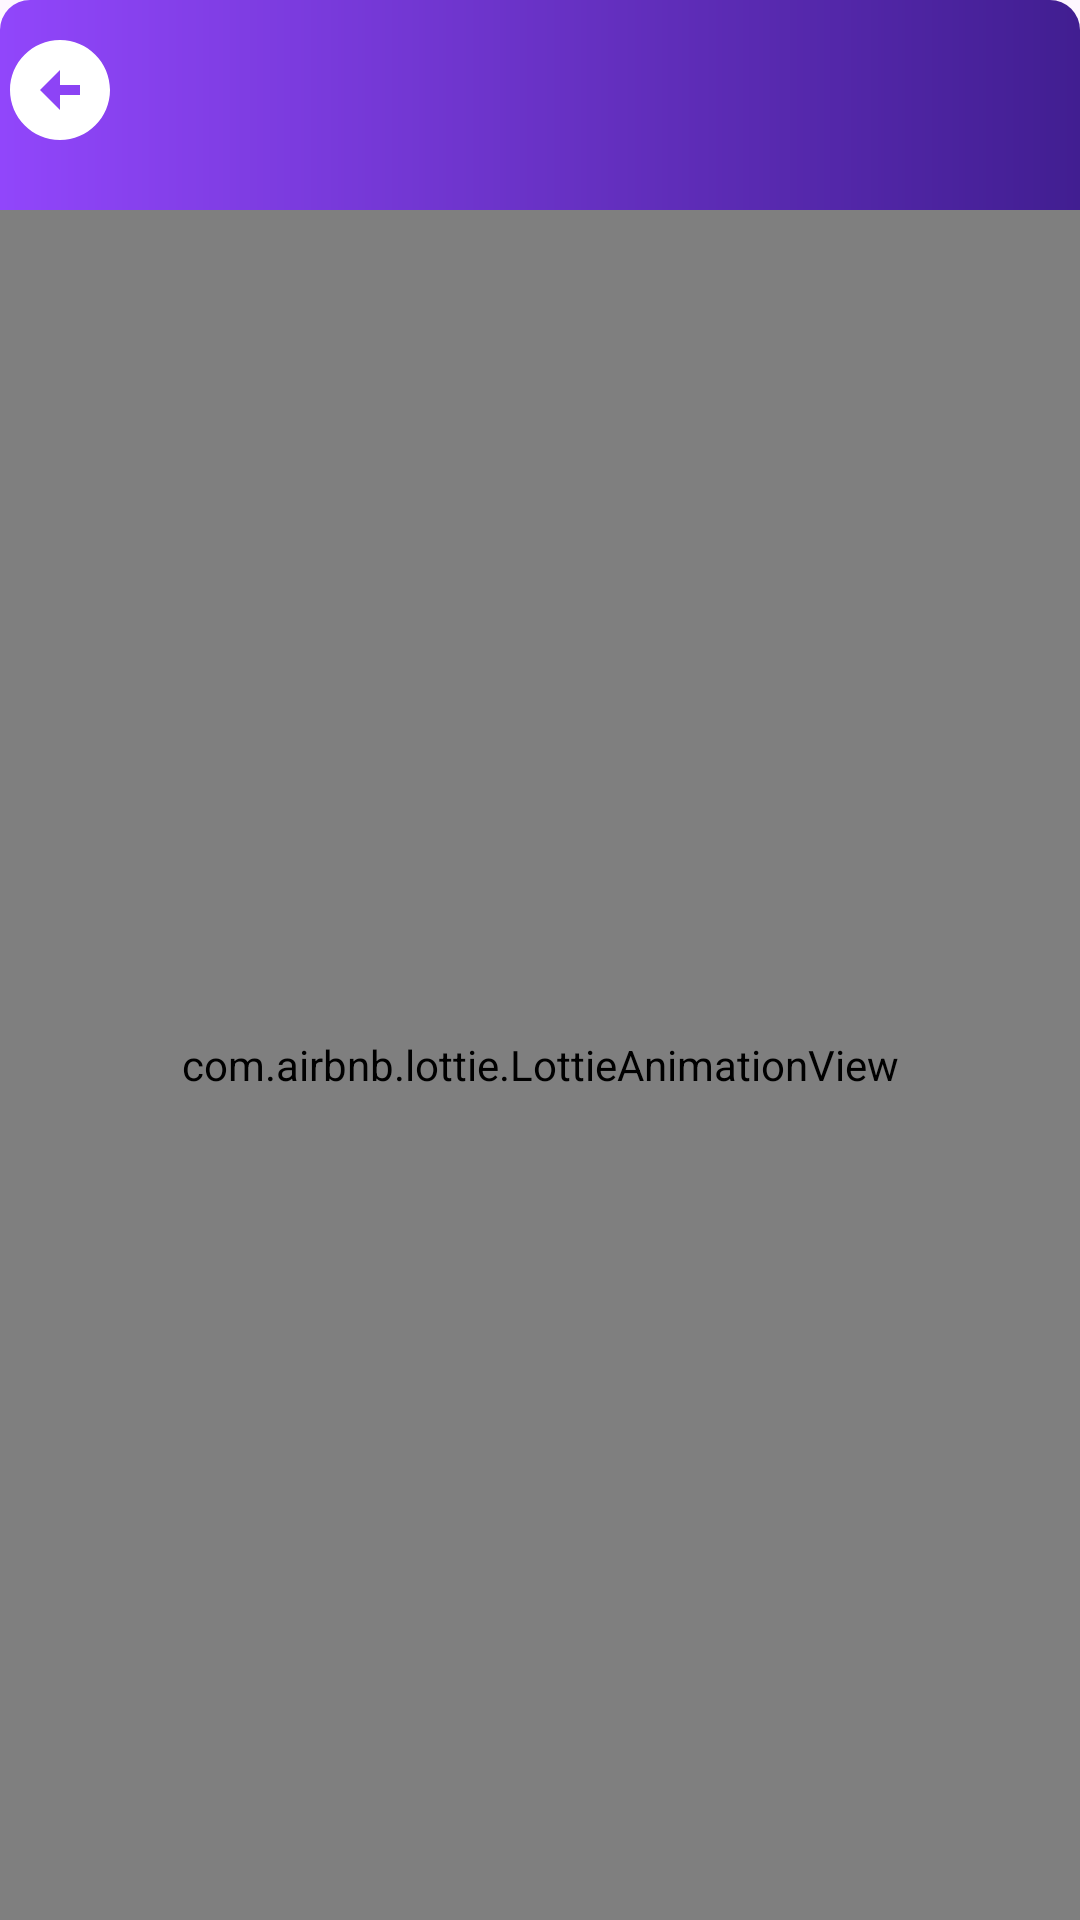

Screen size 1080w x 1920h. Icon name, then its center in pixels as (x,y):
arrow left circle: (60,90)
